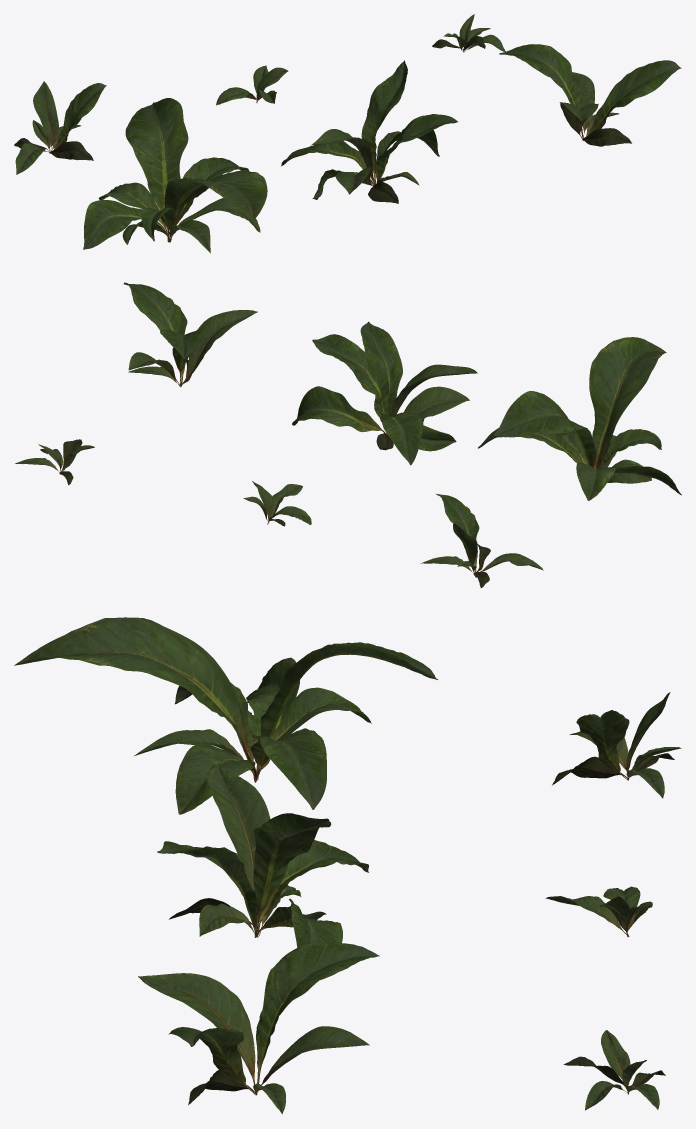
The model's file is plant.glb.
3 renders of one model, top to bottom at view 1: azimuth 30°, elevation 25°; view 2: azimuth 150°, elevation 25°; view 3: azimuth 270°, elevation 25°, orthographic. The views are drawn at different scales.
Parts seen in each view (by area): view 1: anthurium_botany_01_a; view 2: anthurium_botany_01_a; view 3: anthurium_botany_01_a.
Part boxes in pixels (left/top/right/bottom): anthurium_botany_01_a: left=14, top=14, right=681, bottom=253; anthurium_botany_01_a: left=15, top=282, right=681, bottom=587; anthurium_botany_01_a: left=14, top=617, right=681, bottom=1114.
Bounding box in the file's own units: 2.8 × 0.4994 × 1.8.
Materials: 1 (1 with a texture image).
